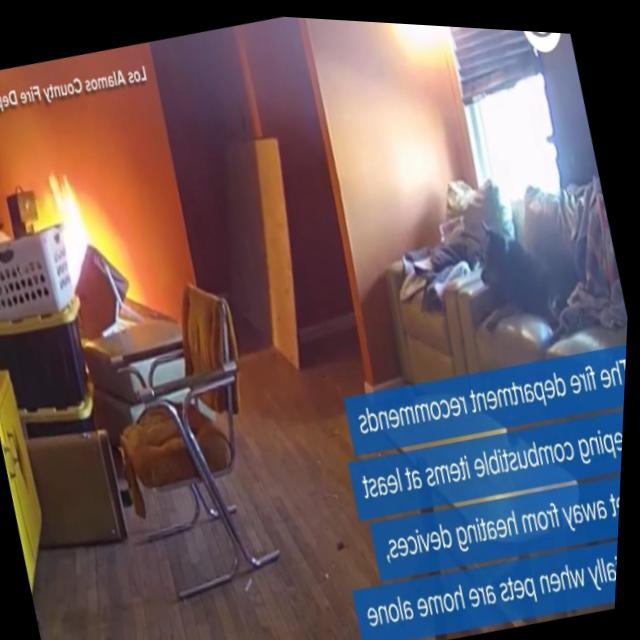fire: (32, 156, 116, 298)
